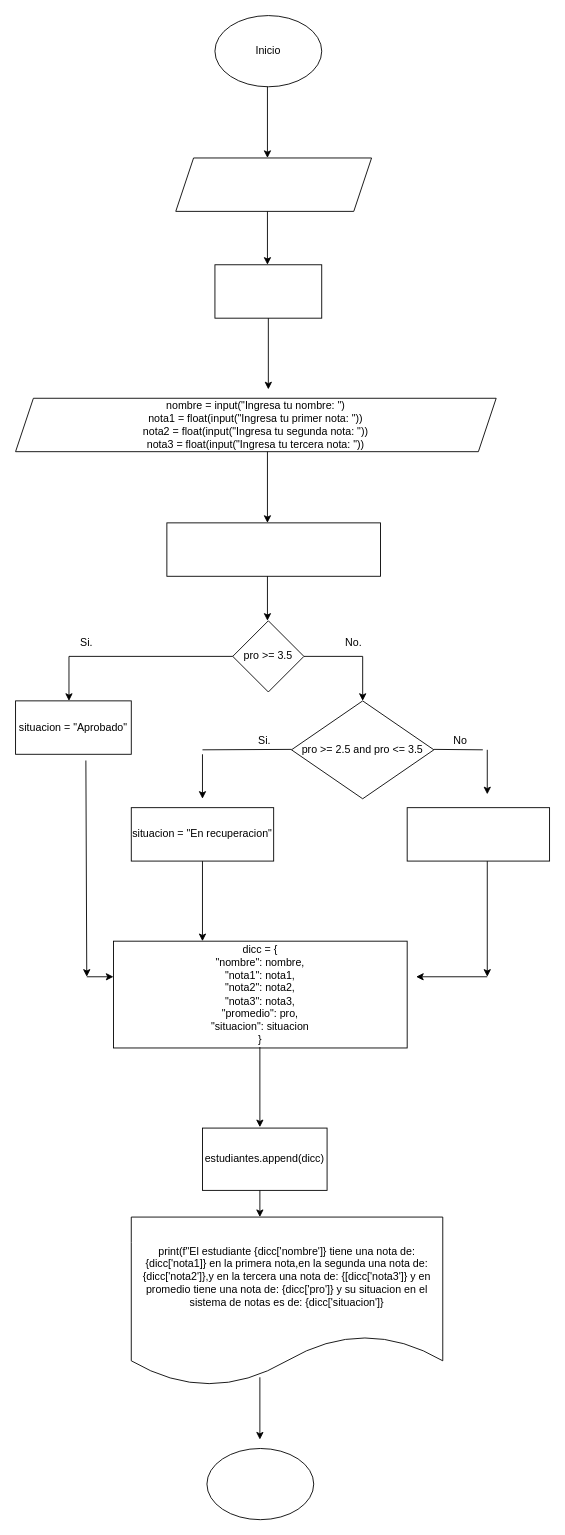
Some shapes in this 565 by 1535 pixel diagram are drawn without their labels. The shapes that lost their labels are listed below. From the top down, each one's centre as x and y in pixels, then its label:
point (273, 184): Desea la cantidad de estudiantes a ingresar
point (268, 291): estudiantes = []
point (273, 549): pro = (nota1 + nota2 + nota3) / 3
point (478, 834): situacion = "Reprobado"
point (260, 1484): Fin
